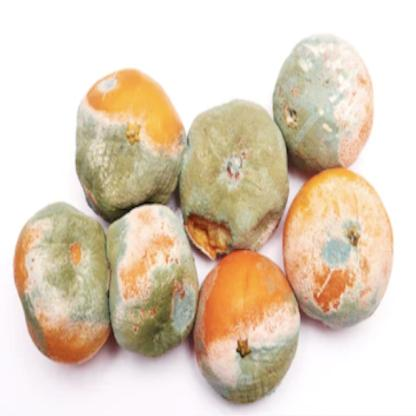rotten: (13, 37, 394, 405)
